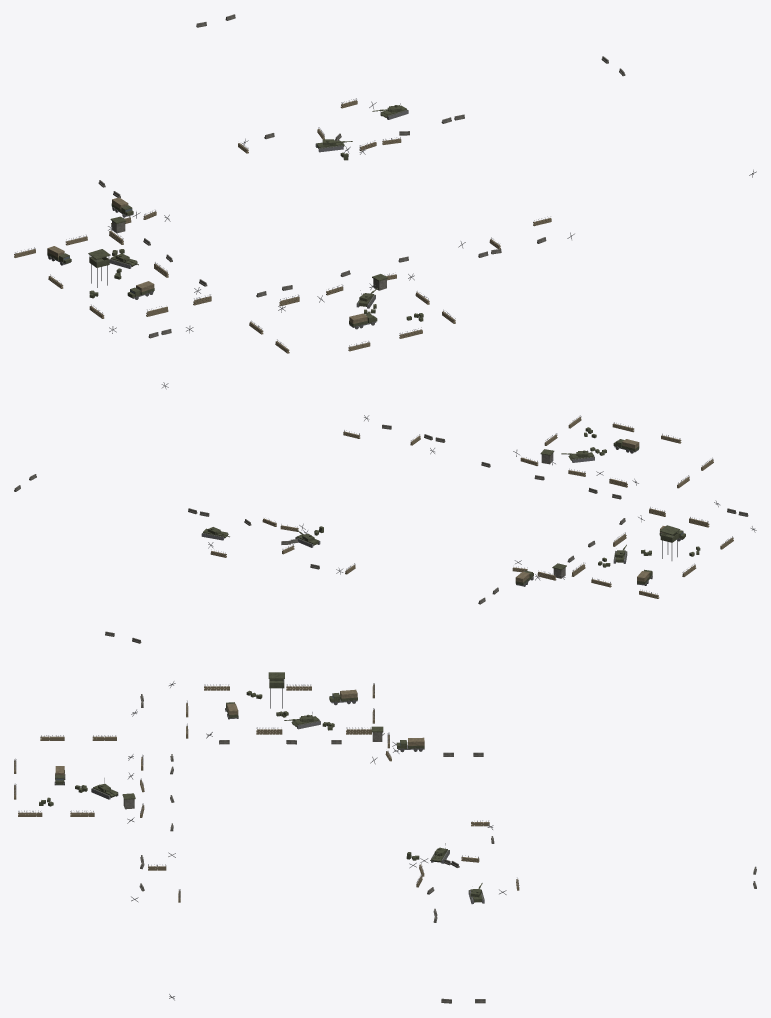
File: Military_Assets.glb
3 renders of one model, top to bottom at view 1: azimuth 30°, elevation 25°; view 2: azimuth 150°, elevation 25°; view 3: azimuth 270°, elevation 25°, orthographic. The views are drawn at different scales.
Parts seen in each view (by area): view 1: Military_Assets; view 2: Military_Assets; view 3: Military_Assets.
Boxes of the visible parts, x1=… form: Military_Assets: x1=14, y1=14, x2=756, y2=353; Military_Assets: x1=14, y1=382, x2=756, y2=643; Military_Assets: x1=14, y1=672, x2=756, y2=1003.
Size of the model in its own units: 202 by 9.2 by 199.
Materials: 6 (3 with a texture image).
